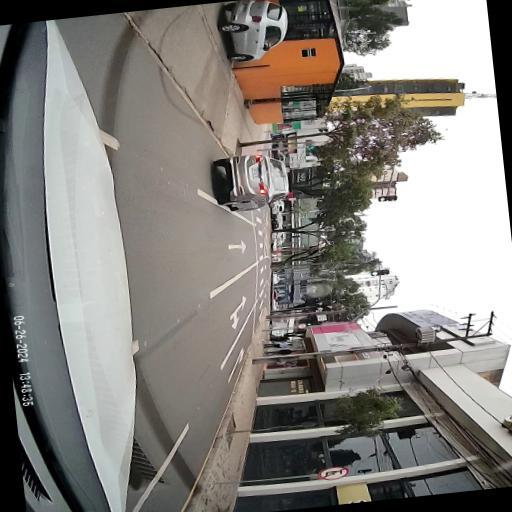R-6a: (318, 466, 348, 482)
